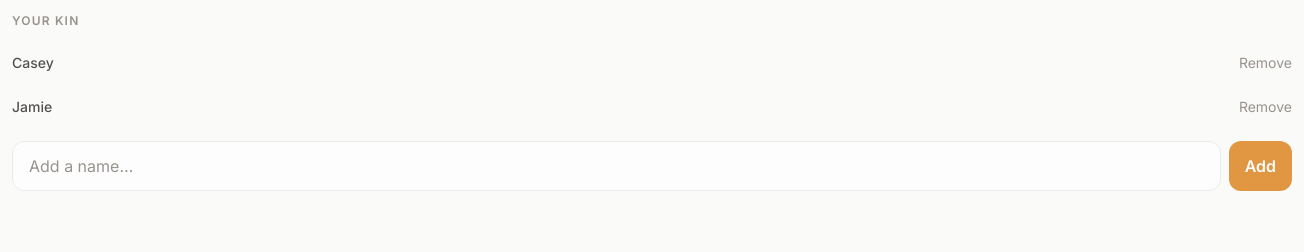
it: KinList › add › shows the new kin after submitting the form
The width and height of the screenshot is (1304, 252).
Type "Morgan" into the field with placeholder "Add a name…" at x=616, y=166, box [12,141,1221,191]
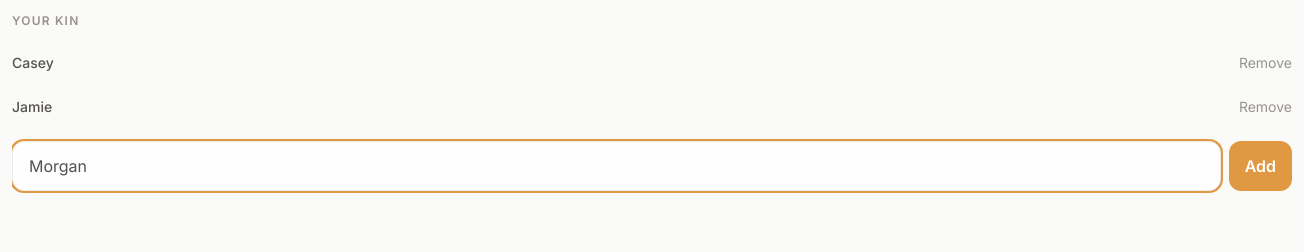
Click the button "Add" at x=1260, y=166, box [1229,141,1292,191]
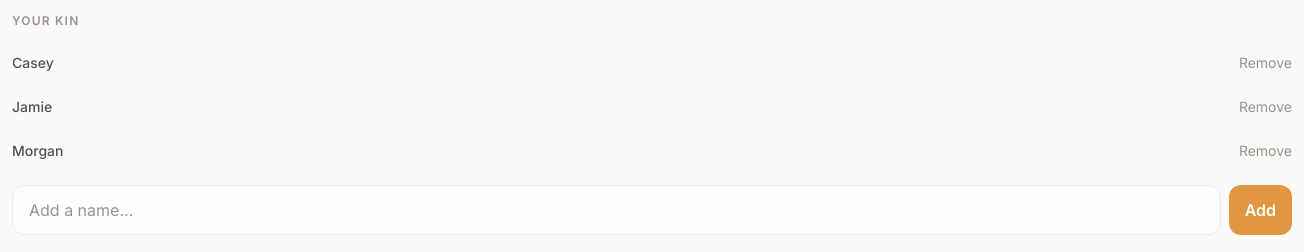
Expected: the button "Morgan" is shown, [12,135,1227,167]
